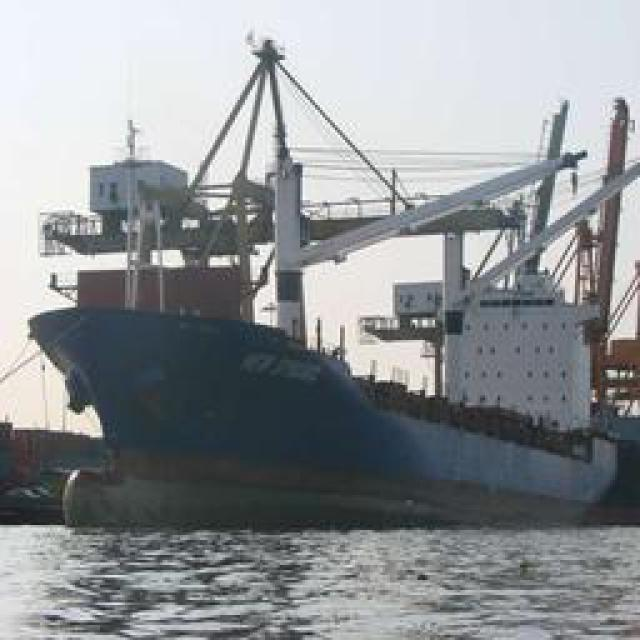Ship: (19, 32, 612, 515)
